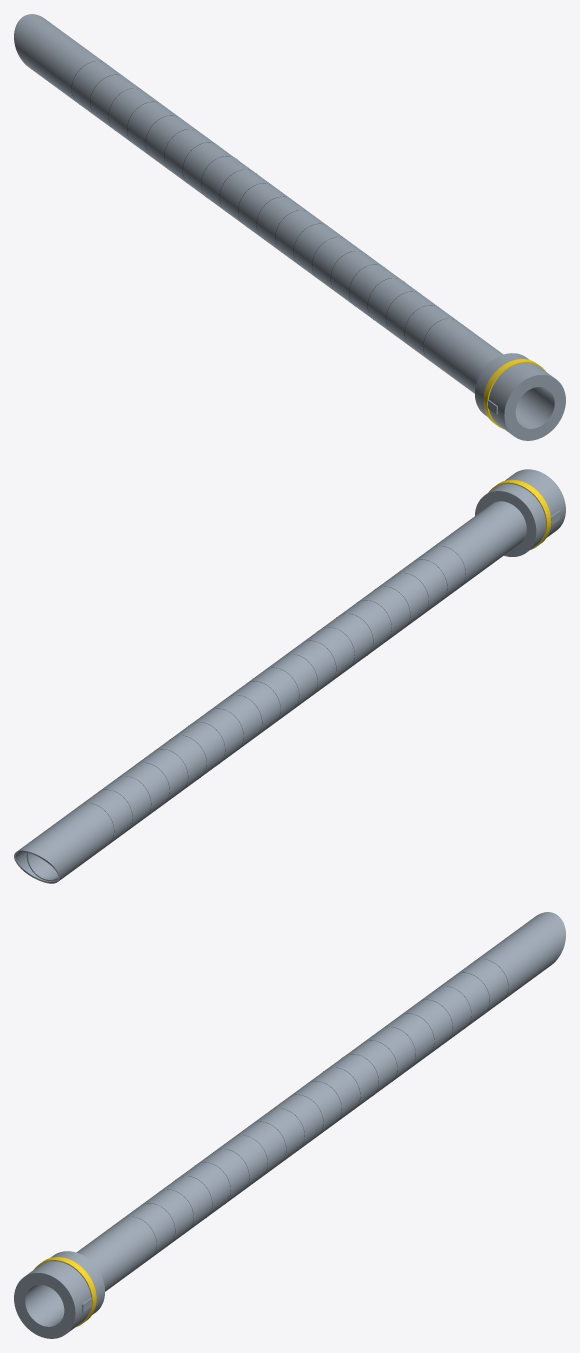
Rendered from bt2210-3-tracheal-tube-od13p20-id12p20mm.glb.
3 renders of one model, top to bottom at view 1: azimuth 30°, elevation 25°; view 2: azimuth 150°, elevation 25°; view 3: azimuth 330°, elevation 25°, orthographic.
Visible parts, largest first — view 1: BT2210_3_Hollow_Beveled_Tube, BT2210_3_Quarter_Turn_Connector, BT2210_3_Metric_Depth_Scale, BT2210_3_Yellow_Size_Ring; view 2: BT2210_3_Hollow_Beveled_Tube, BT2210_3_Quarter_Turn_Connector, BT2210_3_Metric_Depth_Scale, BT2210_3_Yellow_Size_Ring; view 3: BT2210_3_Hollow_Beveled_Tube, BT2210_3_Quarter_Turn_Connector, BT2210_3_Metric_Depth_Scale, BT2210_3_Yellow_Size_Ring.
Part boxes in pixels (left/top/right/bottom): BT2210_3_Hollow_Beveled_Tube: left=14, top=14, right=527, bottom=404; BT2210_3_Quarter_Turn_Connector: left=475, top=353, right=565, bottom=440; BT2210_3_Metric_Depth_Scale: left=71, top=61, right=453, bottom=353; BT2210_3_Yellow_Size_Ring: left=483, top=359, right=545, bottom=428; BT2210_3_Hollow_Beveled_Tube: left=14, top=501, right=526, bottom=883; BT2210_3_Quarter_Turn_Connector: left=475, top=469, right=565, bottom=556; BT2210_3_Metric_Depth_Scale: left=83, top=546, right=465, bottom=842; BT2210_3_Yellow_Size_Ring: left=488, top=479, right=551, bottom=549; BT2210_3_Hollow_Beveled_Tube: left=52, top=912, right=565, bottom=1302; BT2210_3_Quarter_Turn_Connector: left=14, top=1251, right=104, bottom=1338; BT2210_3_Metric_Depth_Scale: left=126, top=959, right=508, bottom=1251; BT2210_3_Yellow_Size_Ring: left=34, top=1257, right=96, bottom=1326.
Bounding box in the file's own units: 0.0199 × 0.0199 × 0.274.
